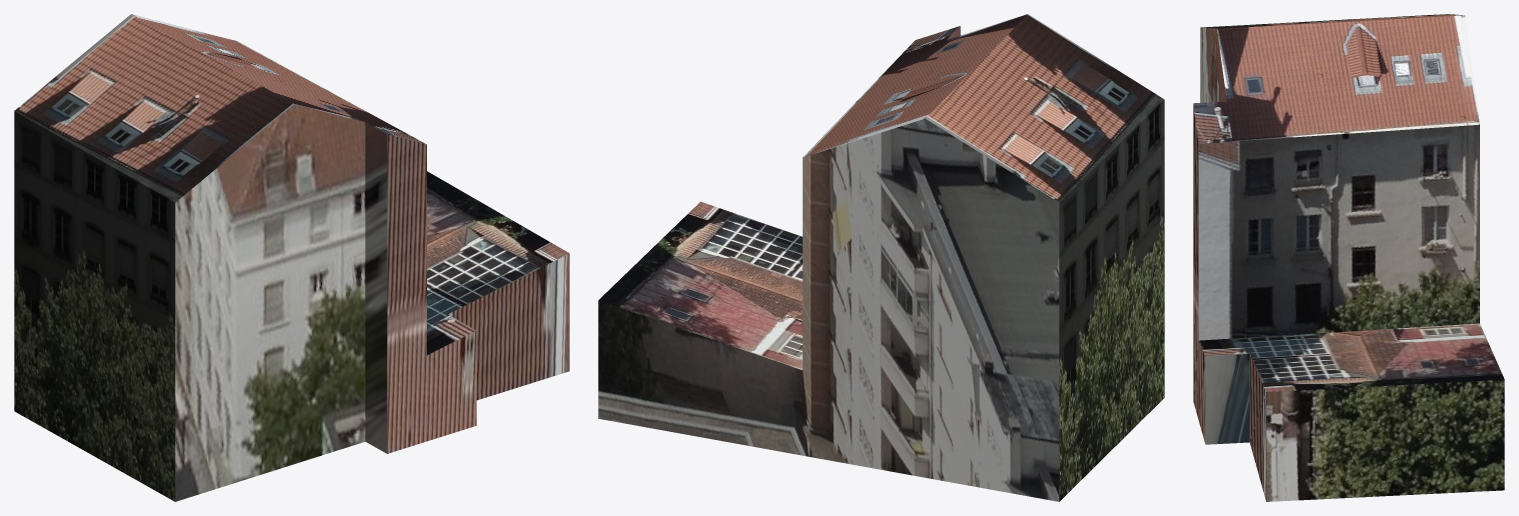
3 views of the same model, side by side, from view 1: azimuth 30°, elevation 25°; view 2: azimuth 150°, elevation 25°; view 3: azimuth 270°, elevation 25° (orthographic). The views are drawn at different scales.
Parts seen in each view (by area): view 1: Z_UP; view 2: Z_UP; view 3: Z_UP.
Part boxes in pixels (<box>): Z_UP: <box>14,14,569,501</box>; Z_UP: <box>598,14,1164,501</box>; Z_UP: <box>1193,14,1504,501</box>.
Bounding box in the file's own units: 24.55 × 18.46 × 15.53.
2 materials, 1 textured.
